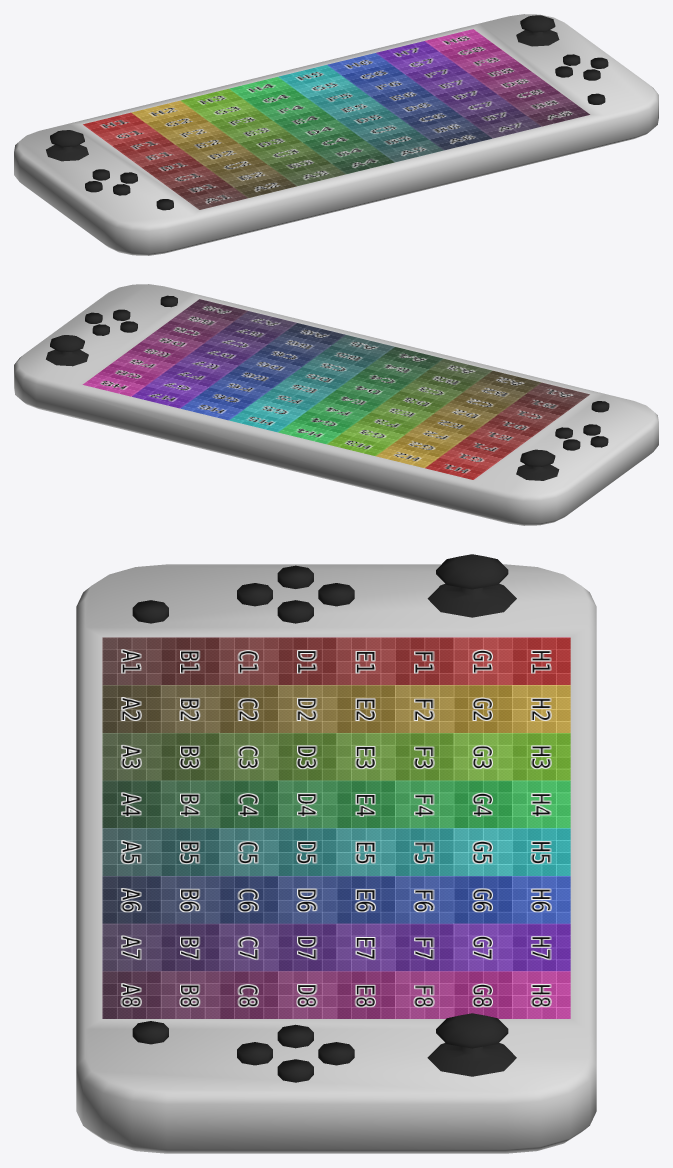
Rendered from handheld-game-console.glb.
3 views of the same model, one above another, from view 1: azimuth 30°, elevation 25°; view 2: azimuth 150°, elevation 25°; view 3: azimuth 270°, elevation 25° (orthographic). The views are drawn at different scales.
Parts seen in each view (by area): view 1: __X_SCREEN__, Cube.001, Button.012; view 2: __X_SCREEN__, Cube.001, Button.012; view 3: __X_SCREEN__, Cube.001, Button.012.
Part boxes in pixels (<box>): __X_SCREEN__: <box>83,29,590,209</box>; Cube.001: <box>14,14,658,255</box>; Button.012: <box>46,15,608,210</box>; __X_SCREEN__: <box>82,299,589,479</box>; Cube.001: <box>14,284,658,525</box>; Button.012: <box>46,295,609,480</box>; __X_SCREEN__: <box>102,637,570,1018</box>; Cube.001: <box>76,564,596,1153</box>; Button.012: <box>132,554,516,1082</box>.
Bounding box in the file's own units: 0.28 × 0.024 × 0.115.
3 materials, 1 textured.
